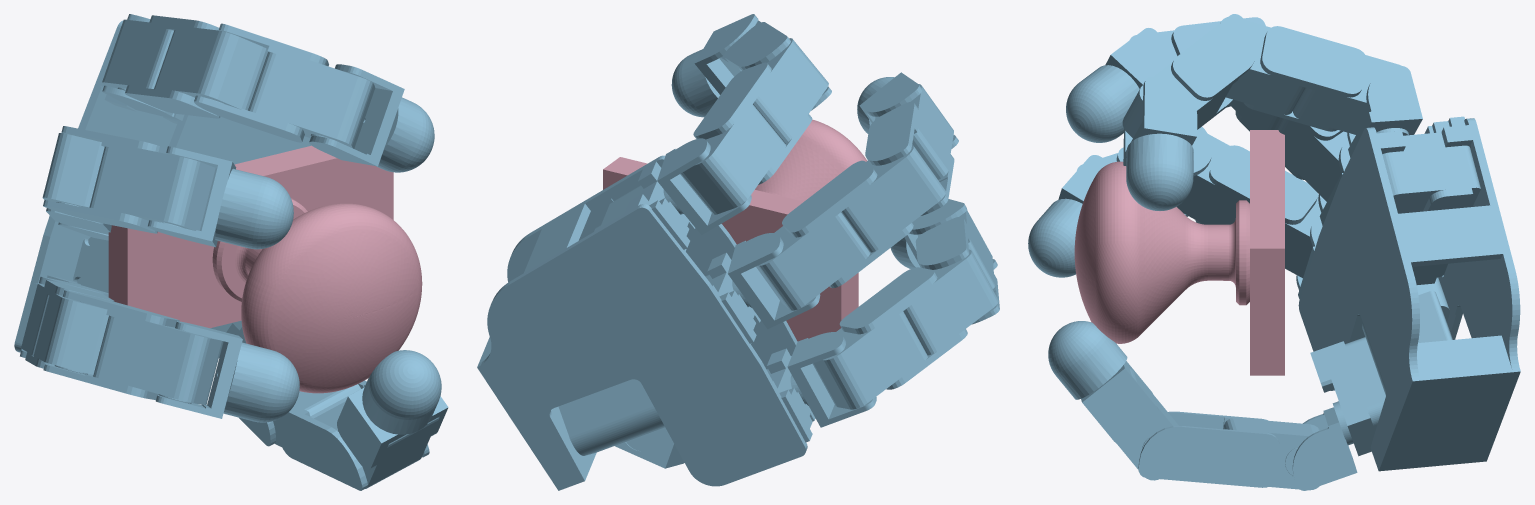
3 renders of one model, left to right at view 1: azimuth 30°, elevation 25°; view 2: azimuth 150°, elevation 25°; view 3: azimuth 270°, elevation 25°, orthographic. The views are drawn at different scales.
Visible parts, largest first — view 1: world, door_knob.stl; view 2: world, door_knob.stl; view 3: world, door_knob.stl.
Part boxes in pixels (box(x1,y1,x2,y2)): world: box(14, 14, 448, 490); door_knob.stl: box(108, 145, 422, 393); world: box(477, 14, 999, 490); door_knob.stl: box(603, 119, 867, 341); world: box(1028, 14, 1520, 490); door_knob.stl: box(1074, 130, 1284, 375).
Size of the model in its own units: 0.1625 by 0.168 by 0.1757.
